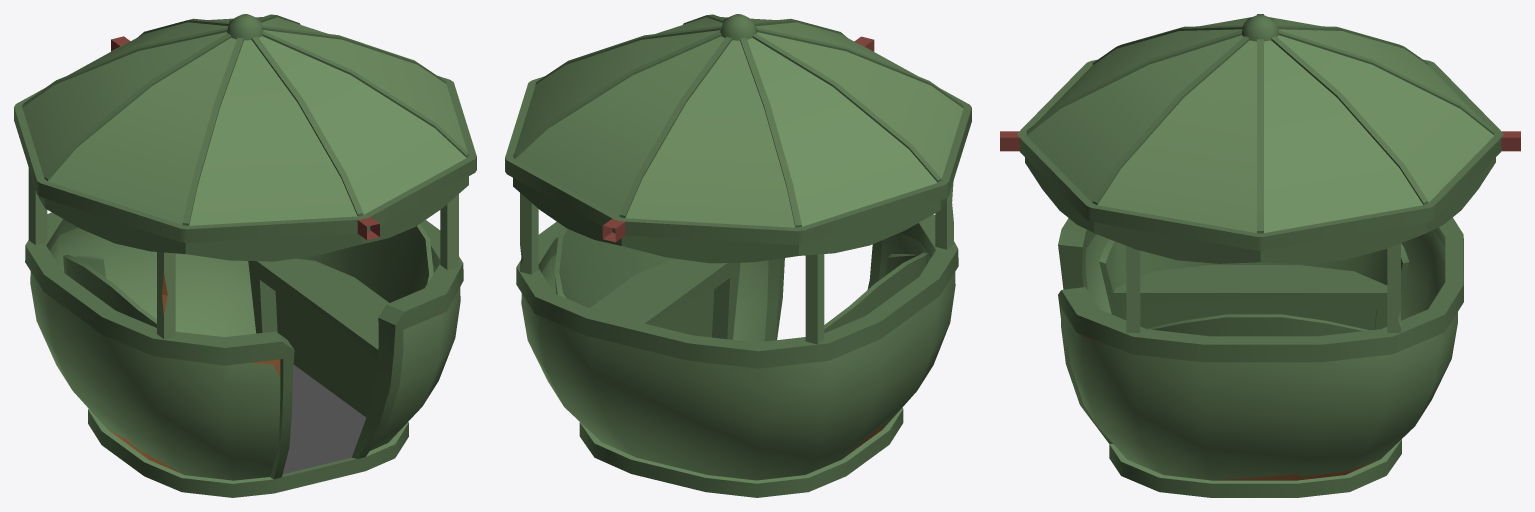
File: SM_Props_Park_02_Cabin_08.fbx
The picture shows the model from 3 angles, left to right: view 1: azimuth 30°, elevation 25°; view 2: azimuth 150°, elevation 25°; view 3: azimuth 270°, elevation 25°; orthographic projection.
Visible parts, largest first — view 1: SM_Props_Park_02_Cabin_08; view 2: SM_Props_Park_02_Cabin_08; view 3: SM_Props_Park_02_Cabin_08.
Part boxes in pixels (left/top/right/bottom): SM_Props_Park_02_Cabin_08: left=14, top=14, right=476, bottom=497; SM_Props_Park_02_Cabin_08: left=505, top=14, right=971, bottom=497; SM_Props_Park_02_Cabin_08: left=1000, top=14, right=1520, bottom=497.
Size of the model in its own units: 3.17 by 3.02 by 3.4.
